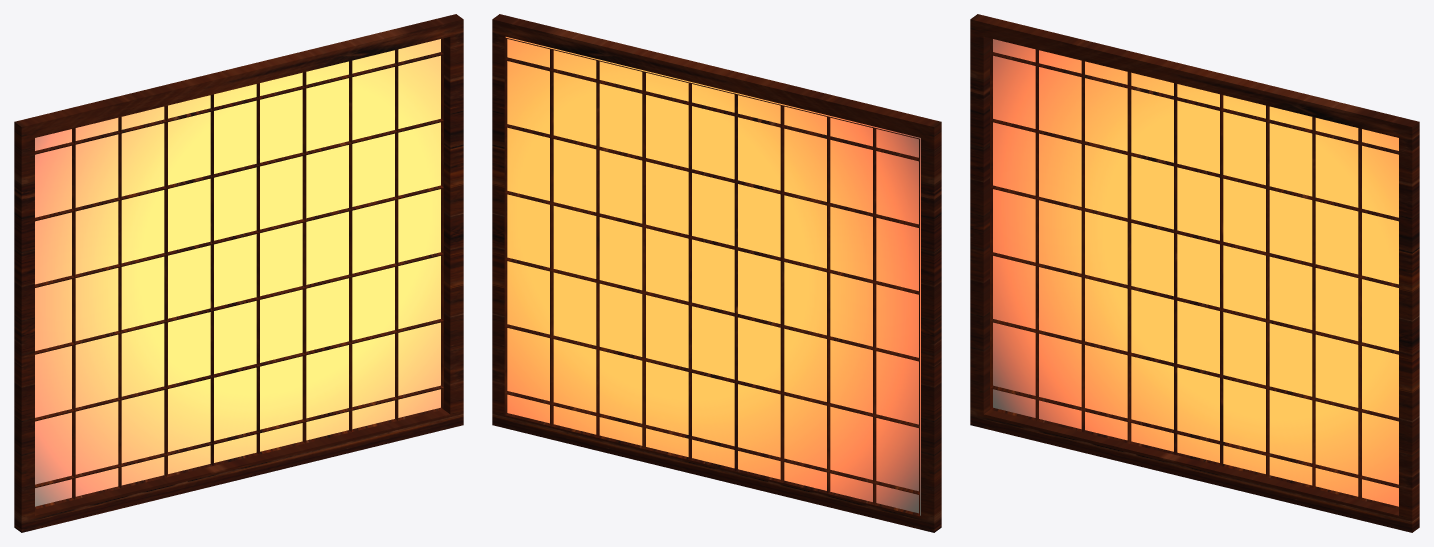
The model's file is JanelaPapel.fbx.
3 renders of one model, left to right at view 1: azimuth 30°, elevation 25°; view 2: azimuth 150°, elevation 25°; view 3: azimuth 330°, elevation 25°, orthographic.
Parts seen in each view (by area): view 1: JanelaPapelJaponesa; view 2: JanelaPapelJaponesa; view 3: JanelaPapelJaponesa.
Boxes of the visible parts, left/top/right/bottom form: JanelaPapelJaponesa: left=14, top=14, right=463, bottom=532; JanelaPapelJaponesa: left=492, top=14, right=941, bottom=532; JanelaPapelJaponesa: left=970, top=14, right=1419, bottom=532.
Bounding box in the file's own units: 256 × 225 × 8.41.
